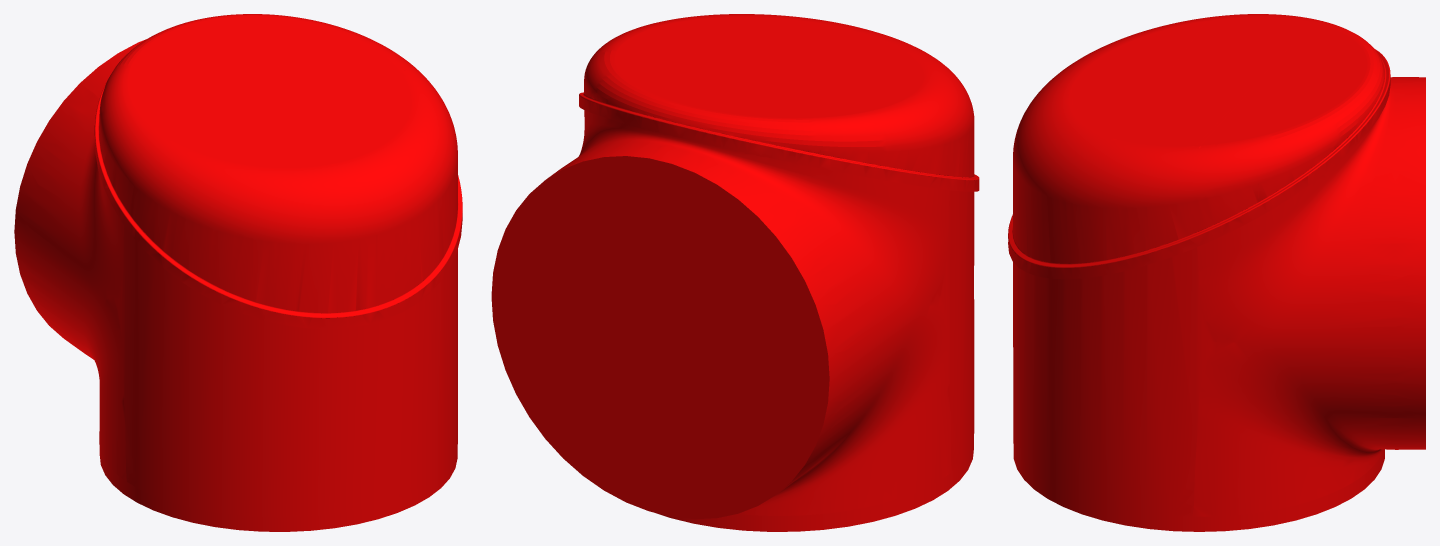
File: shoulder.dae
3 renders of one model, left to right at view 1: azimuth 30°, elevation 25°; view 2: azimuth 150°, elevation 25°; view 3: azimuth 270°, elevation 25°, orthographic. The views are drawn at different scales.
Parts seen in each view (by area): view 1: Actor0, Actor1; view 2: Actor0, Actor1; view 3: Actor0, Actor1.
Boxes of the visible parts, x1,y1,x2,y2 form: Actor0: [14, 39, 457, 531]; Actor1: [94, 14, 462, 328]; Actor0: [491, 110, 974, 531]; Actor1: [579, 14, 979, 191]; Actor0: [1013, 77, 1425, 531]; Actor1: [1008, 14, 1390, 279].
Bounding box in the file's own units: 0.119 × 0.13 × 0.1337.
